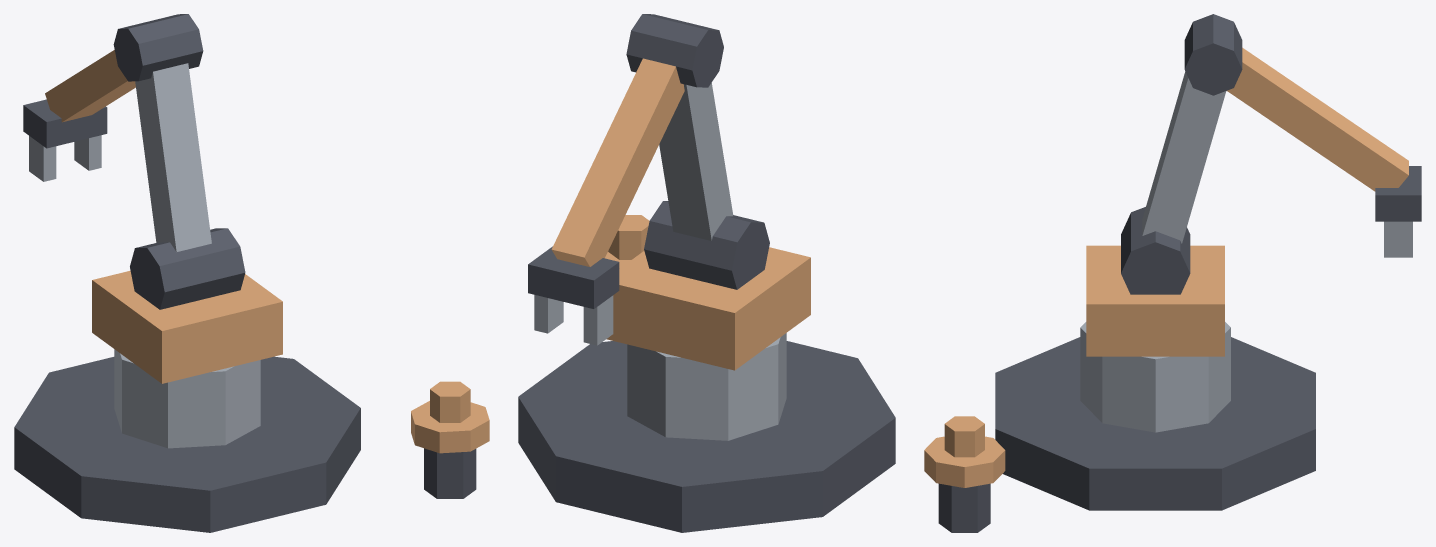
File: braco_longo_sem_textura.glb
3 views of the same model, side by side, from view 1: azimuth 30°, elevation 25°; view 2: azimuth 150°, elevation 25°; view 3: azimuth 270°, elevation 25° (orthographic). The views are drawn at different scales.
Parts seen in each view (by area): view 1: braco_longo_base, braco_longo_giro, braco_longo_braco1, braco_longo_garra, braco_longo_braco2; view 2: braco_longo_base, braco_longo_giro, braco_longo_braco1, braco_longo_braco2, braco_longo_garra; view 3: braco_longo_base, braco_longo_giro, braco_longo_braco1, braco_longo_braco2, braco_longo_garra.
Part boxes in pixels (bbox=[...]): braco_longo_base: bbox=[14, 349, 489, 532]; braco_longo_giro: bbox=[92, 228, 282, 383]; braco_longo_braco1: bbox=[113, 14, 211, 251]; braco_longo_garra: bbox=[23, 99, 107, 181]; braco_longo_braco2: bbox=[45, 50, 135, 122]; braco_longo_base: bbox=[518, 215, 895, 532]; braco_longo_giro: bbox=[606, 201, 810, 370]; braco_longo_braco1: bbox=[626, 14, 733, 240]; braco_longo_braco2: bbox=[551, 58, 684, 266]; braco_longo_garra: bbox=[528, 246, 619, 345]; braco_longo_base: bbox=[924, 322, 1315, 532]; braco_longo_giro: bbox=[1086, 207, 1224, 356]; braco_longo_braco1: bbox=[1142, 14, 1242, 243]; braco_longo_braco2: bbox=[1227, 47, 1408, 191]; braco_longo_garra: bbox=[1375, 166, 1421, 257].
Size of the model in its own units: 0.6772 by 0.79 by 0.86.
